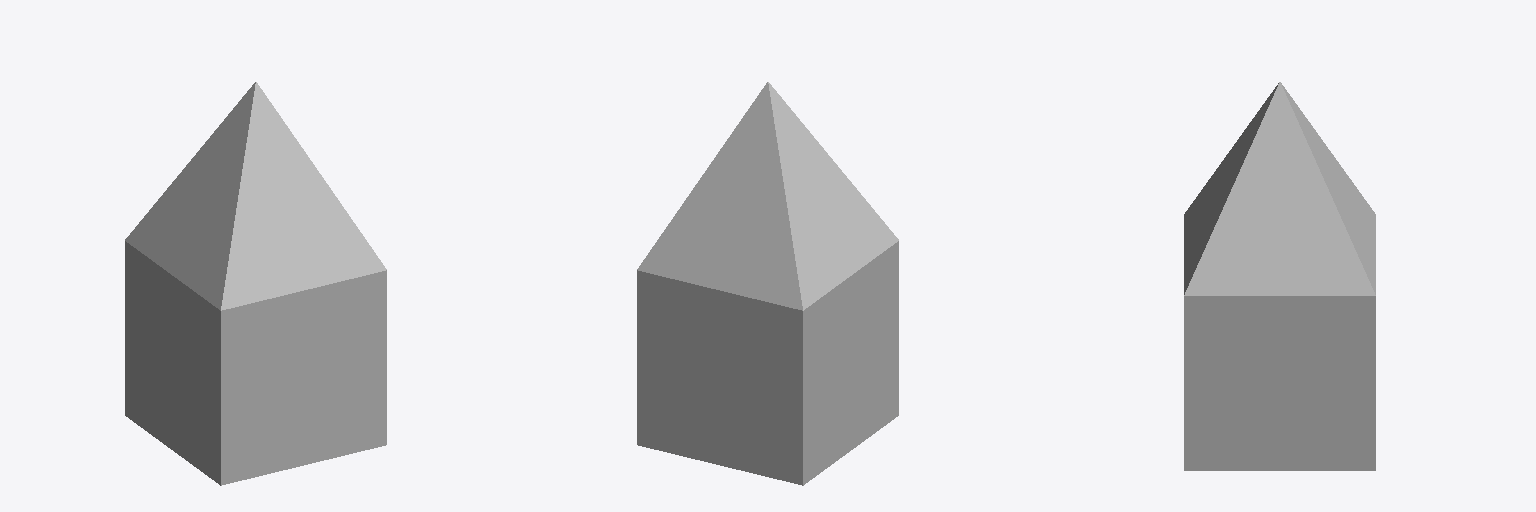
File: ship.obj
The picture shows the model from 3 angles: view 1: azimuth 30°, elevation 25°; view 2: azimuth 150°, elevation 25°; view 3: azimuth 270°, elevation 25°; orthographic projection.
Parts seen in each view (by area): view 1: Cube; view 2: Cube; view 3: Cube.
Boxes of the visible parts, x1,y1,x2,y2 form: Cube: [125, 82, 386, 485]; Cube: [637, 82, 898, 485]; Cube: [1184, 82, 1375, 470].
Bounding box in the file's own units: 0.5 × 1 × 0.5.